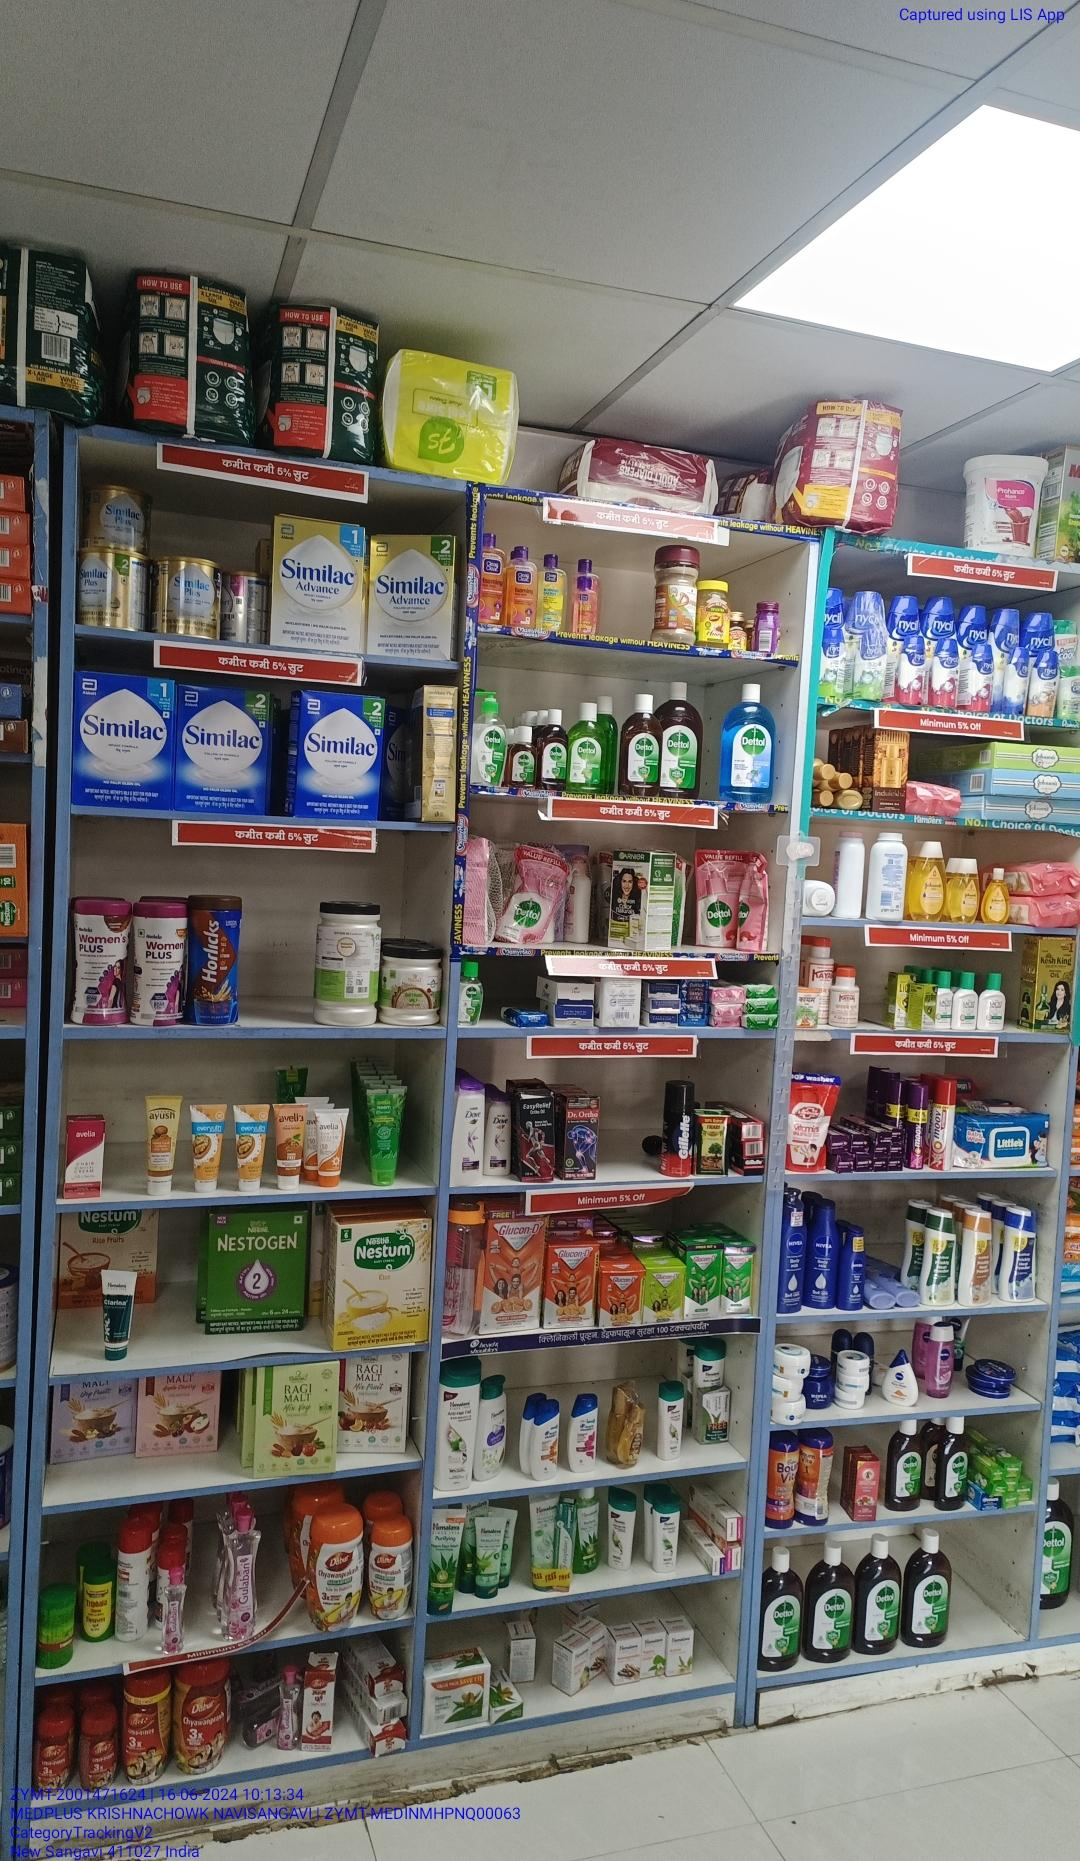HORLICK_CHOCOLATE_500_G_JAR: (190, 893, 239, 1027)
